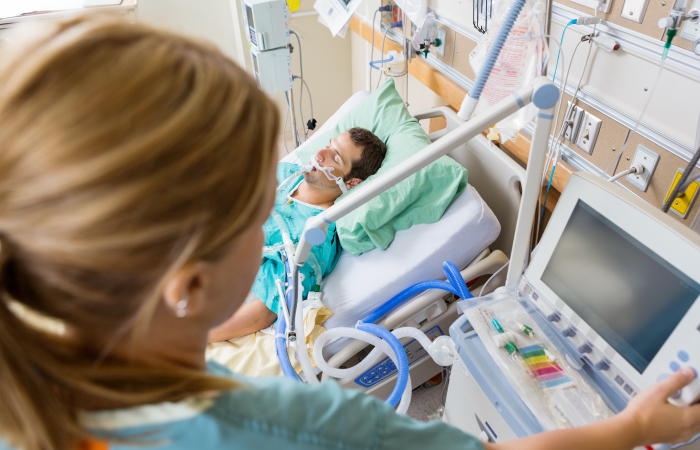breathing_tube: (266, 218, 476, 401)
hospital_bed: (136, 83, 540, 409)
light_switch: (577, 110, 603, 155)
patient: (136, 125, 388, 345)
staff: (3, 11, 684, 448)
ventilator: (433, 173, 700, 448)
